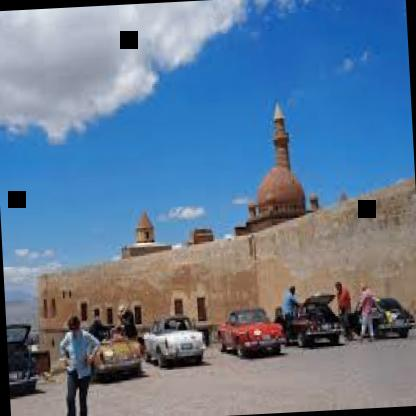car: (66, 294, 169, 390), (137, 284, 219, 368), (275, 276, 352, 360), (352, 262, 416, 351), (209, 295, 290, 365), (5, 299, 52, 406)
